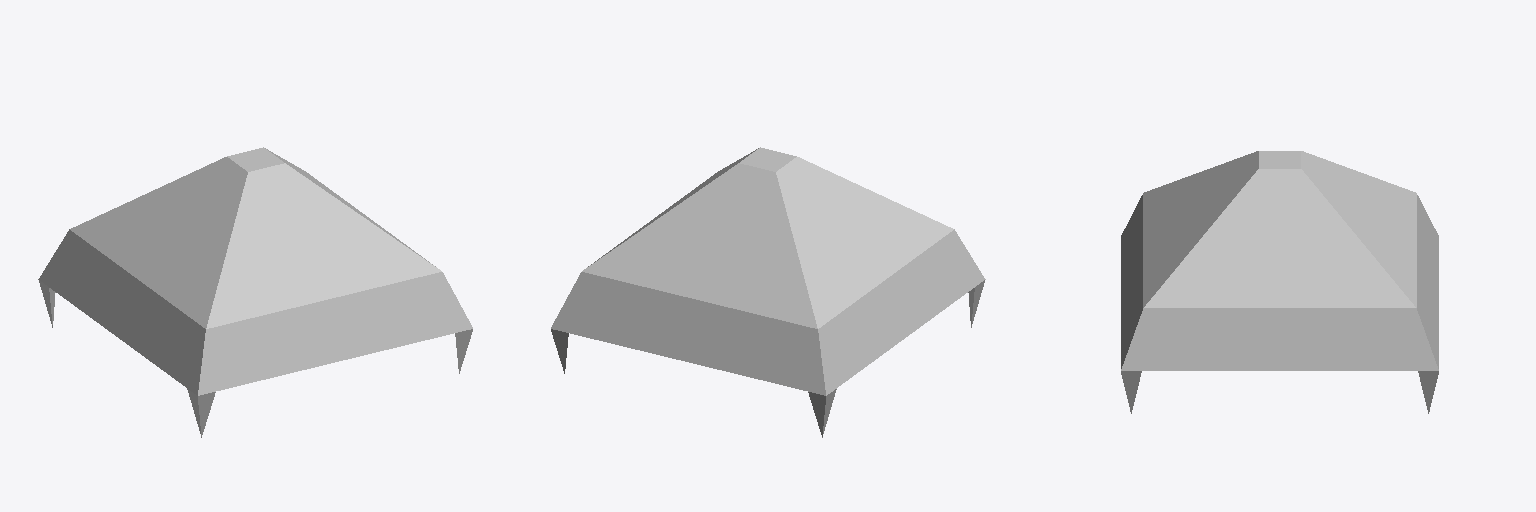
The model's file is easy_flying_enemy.obj.
The picture shows the model from 3 angles: view 1: azimuth 30°, elevation 25°; view 2: azimuth 150°, elevation 25°; view 3: azimuth 270°, elevation 25°; orthographic projection.
Parts seen in each view (by area): view 1: Mesh1 Model; view 2: Mesh1 Model; view 3: Mesh1 Model.
Boxes of the visible parts, box(x1,y1,x2,y2) form: Mesh1 Model: box(38, 147, 472, 437); Mesh1 Model: box(551, 147, 985, 437); Mesh1 Model: box(1121, 151, 1438, 413).
Size of the model in its own units: 6 by 4 by 6.